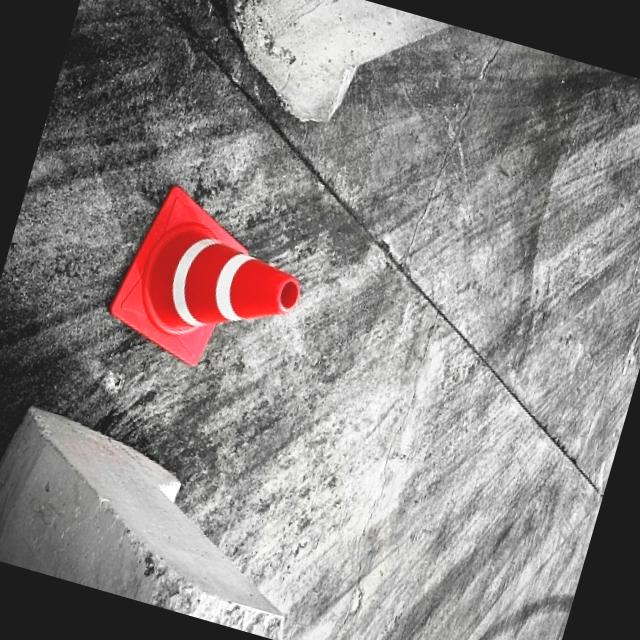cone: (85, 156, 348, 394)
